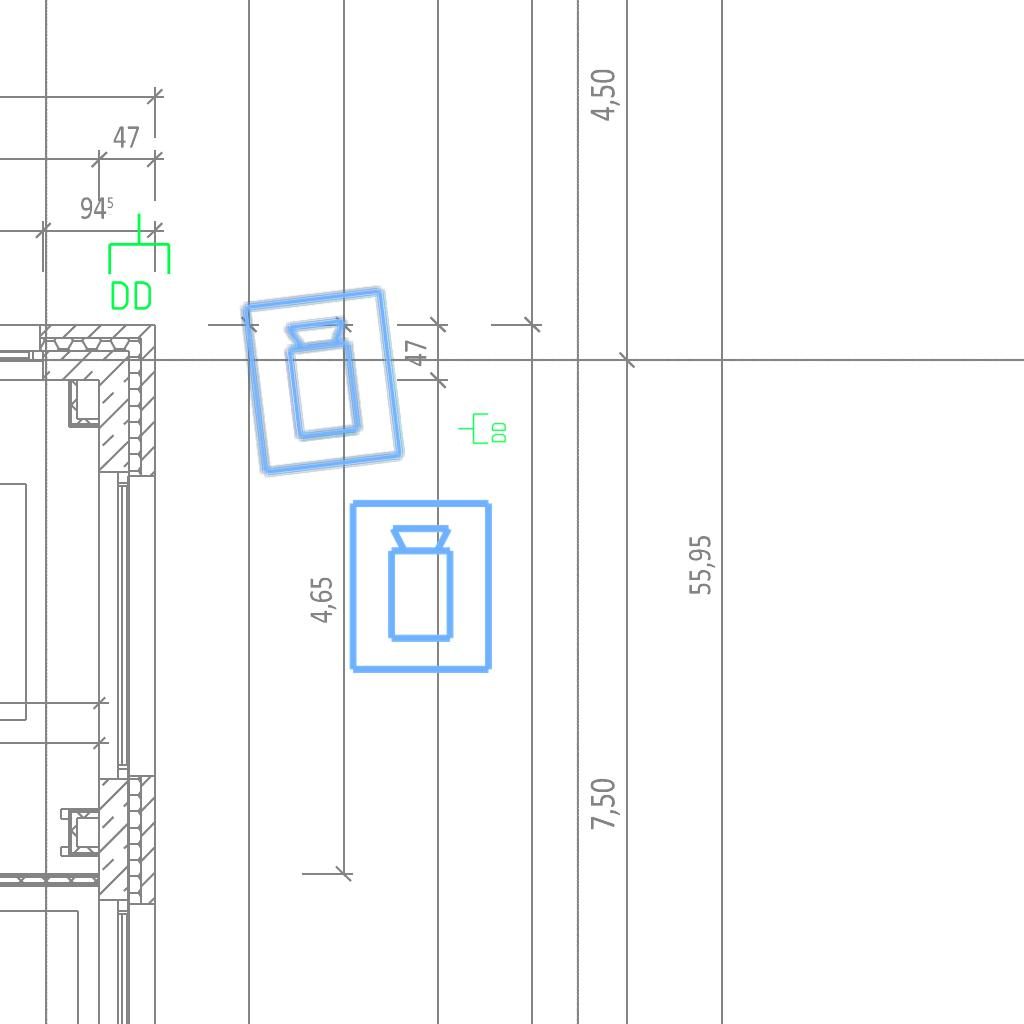Datenanschluss_zweifach: (104, 211, 173, 314), (457, 412, 508, 446)
KFO_Kamera_mit_Festobjektiv: (236, 282, 412, 482), (345, 496, 499, 678)
